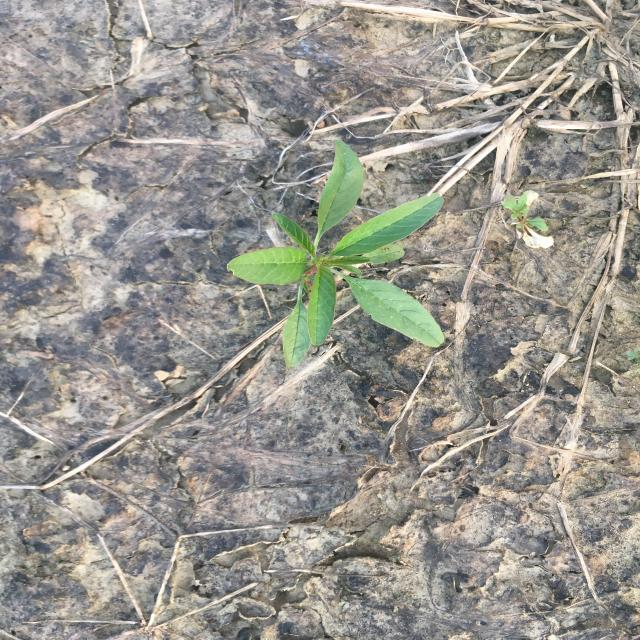Carpetweed: (502, 189, 558, 250)
Waterhemp: (223, 137, 448, 370)
